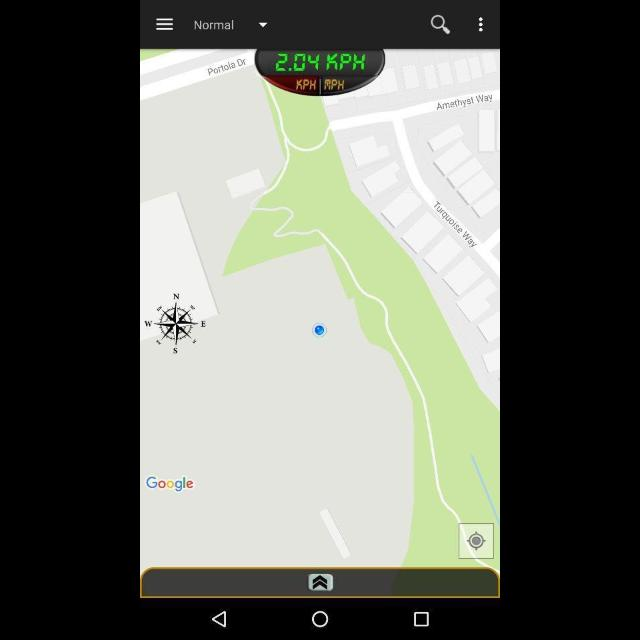icon: (432, 13, 451, 35), (156, 16, 172, 32), (312, 612, 328, 628), (213, 612, 227, 628), (414, 612, 428, 628), (476, 15, 484, 32)
map: (140, 49, 500, 597)
panel: (140, 600, 500, 638)
spinner: (192, 18, 268, 34)
toolbar: (140, 0, 500, 48)
